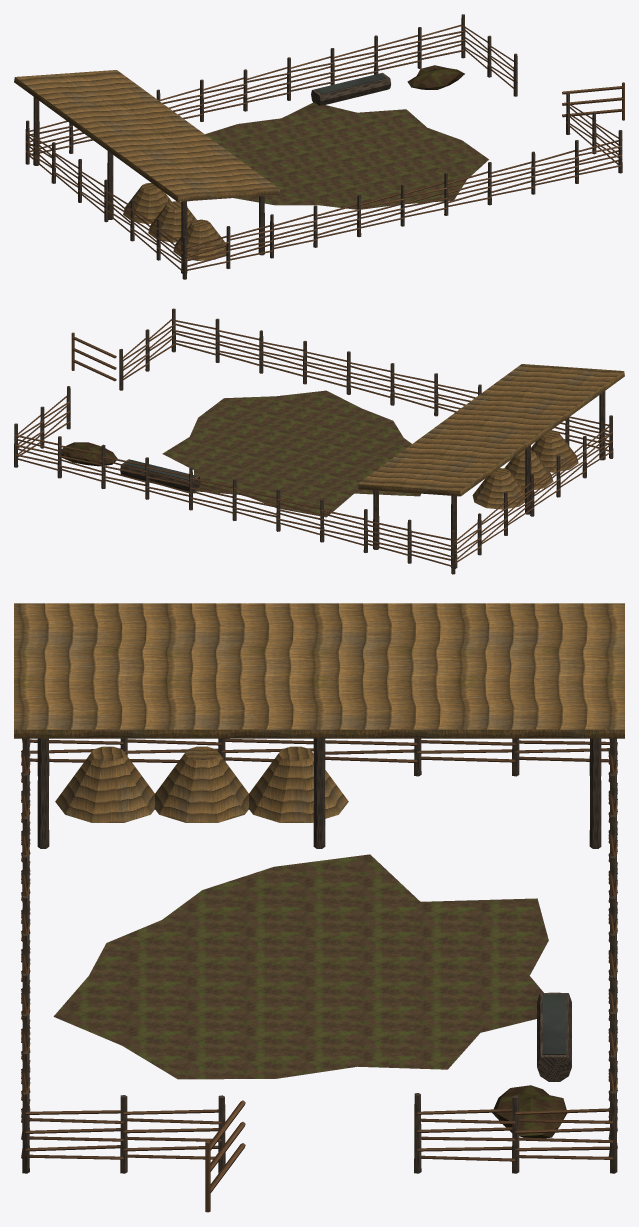
The model's file is recinto_bestiame.glb.
The picture shows the model from 3 angles, top to bottom: view 1: azimuth 30°, elevation 25°; view 2: azimuth 150°, elevation 25°; view 3: azimuth 270°, elevation 25°; orthographic projection. The views are drawn at different scales.
Visible parts, largest first — view 1: recinto_bestiame; view 2: recinto_bestiame; view 3: recinto_bestiame.
Boxes of the visible parts, x1,y1,x2,y2 form: recinto_bestiame: [14, 14, 624, 279]; recinto_bestiame: [14, 308, 624, 574]; recinto_bestiame: [14, 603, 624, 1212].
Bounding box in the file's own units: 18.34 × 3.05 × 10.4.
6 materials, 6 textured.
